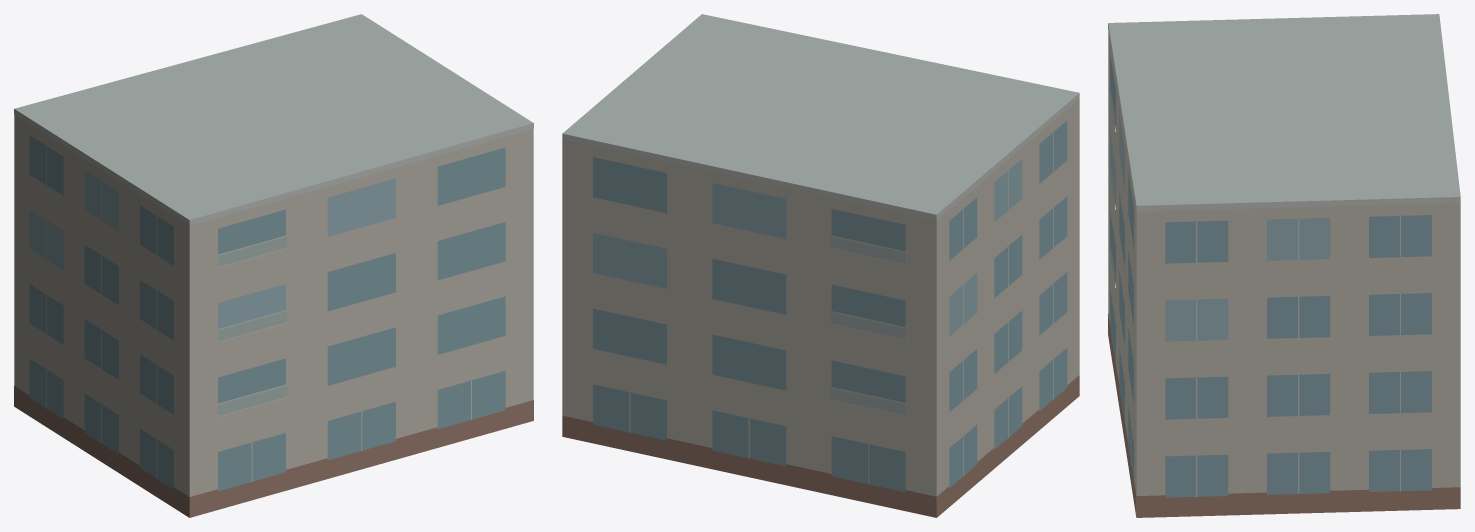
The model's file is survey-upis-32756431.glb.
The picture shows the model from 3 angles, left to right: view 1: azimuth 30°, elevation 25°; view 2: azimuth 150°, elevation 25°; view 3: azimuth 270°, elevation 25°; orthographic projection. The views are drawn at different scales.
Parts seen in each view (by area): view 1: survey-upis-32756431.tmp; view 2: survey-upis-32756431.tmp; view 3: survey-upis-32756431.tmp.
Part boxes in pixels (x1,y1,x2,y2): survey-upis-32756431.tmp: (14,14,533,517); survey-upis-32756431.tmp: (562,14,1079,517); survey-upis-32756431.tmp: (1108,14,1460,517).
Bounding box in the file's own units: 17.02 × 12.9 × 13.22.
